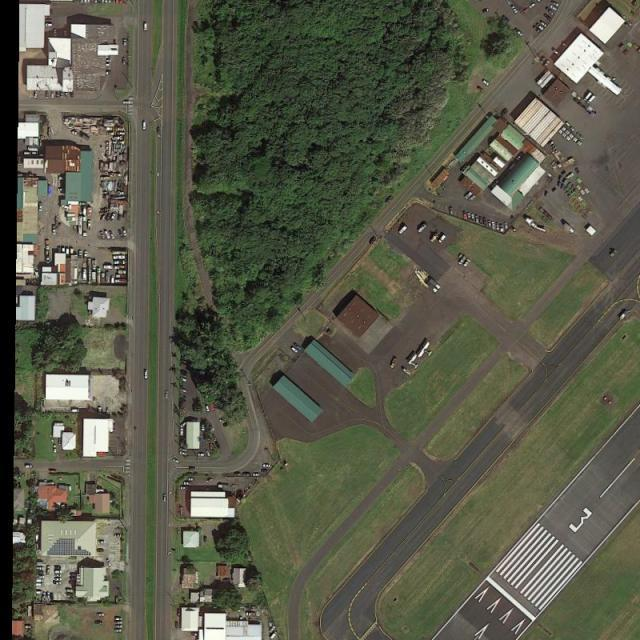vehicle: (429, 278, 442, 291), (562, 223, 576, 235), (426, 281, 438, 294), (583, 91, 594, 102), (586, 95, 597, 105), (620, 310, 628, 320), (269, 626, 277, 635), (270, 631, 278, 640), (514, 28, 522, 37), (532, 26, 541, 34), (544, 60, 552, 68), (510, 6, 518, 14), (539, 19, 547, 27), (459, 257, 467, 265), (179, 386, 188, 393), (543, 14, 552, 21), (536, 23, 545, 30), (106, 559, 113, 567), (554, 50, 561, 58), (546, 8, 554, 15), (246, 611, 255, 617), (291, 346, 298, 353), (295, 343, 302, 350), (551, 0, 558, 7), (468, 195, 475, 202), (173, 458, 181, 464), (477, 86, 483, 94), (482, 81, 490, 87), (482, 9, 490, 15), (550, 5, 558, 11), (466, 192, 472, 200), (49, 469, 58, 474), (462, 210, 467, 219), (180, 376, 187, 382), (464, 260, 470, 267), (122, 38, 127, 46), (503, 1, 511, 6), (46, 566, 50, 575), (262, 463, 271, 467), (181, 486, 190, 490), (180, 451, 186, 457), (36, 579, 43, 584), (206, 450, 211, 457), (234, 472, 241, 477), (205, 404, 210, 411), (449, 208, 454, 215), (46, 593, 50, 601), (54, 578, 62, 582), (252, 474, 260, 478), (242, 472, 250, 476), (184, 482, 192, 486), (98, 540, 106, 544), (96, 613, 104, 617), (95, 621, 103, 625), (114, 617, 122, 621), (54, 570, 62, 574), (54, 574, 62, 578), (180, 427, 184, 435), (122, 100, 130, 104), (25, 465, 33, 469), (483, 218, 487, 226), (493, 222, 497, 230), (36, 574, 43, 578), (50, 593, 54, 600), (175, 622, 179, 629), (98, 548, 105, 552), (115, 630, 122, 634), (122, 58, 126, 65), (106, 407, 110, 414), (474, 215, 478, 222), (488, 220, 492, 227), (202, 423, 205, 432), (145, 370, 148, 379), (66, 590, 74, 593), (51, 90, 54, 98), (39, 202, 42, 210), (98, 406, 101, 414), (166, 390, 169, 398), (144, 23, 147, 31), (479, 218, 483, 224), (471, 214, 474, 222), (37, 567, 44, 570), (54, 582, 61, 585), (187, 478, 194, 481), (163, 494, 166, 501), (114, 534, 121, 537), (115, 622, 122, 625), (115, 625, 122, 628), (198, 454, 205, 457), (54, 30, 57, 37), (143, 122, 146, 129), (504, 223, 507, 230), (501, 226, 504, 233), (467, 213, 470, 220), (189, 467, 194, 471), (36, 583, 42, 586), (64, 31, 67, 37), (46, 91, 49, 97), (54, 445, 57, 451), (497, 225, 500, 231), (66, 594, 72, 596), (46, 24, 52, 26), (61, 91, 63, 97), (112, 1, 115, 4), (80, 1, 83, 4), (57, 91, 58, 98), (475, 1, 482, 2), (116, 1, 119, 3), (98, 1, 101, 3), (84, 1, 86, 4), (91, 1, 94, 3), (94, 1, 97, 3), (109, 1, 111, 3), (102, 1, 104, 3), (121, 1, 122, 4), (87, 1, 90, 2), (106, 1, 108, 2)
